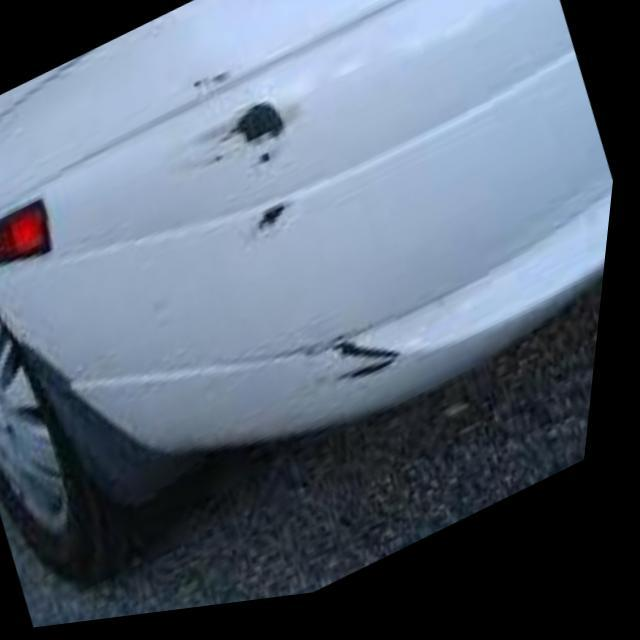rub: (176, 70, 312, 266)
scratch: (303, 330, 415, 408)
